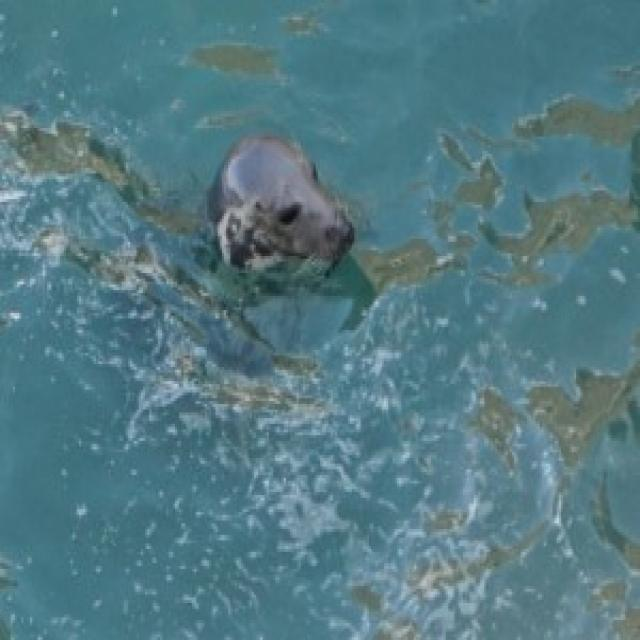Seal: (208, 116, 362, 317)
